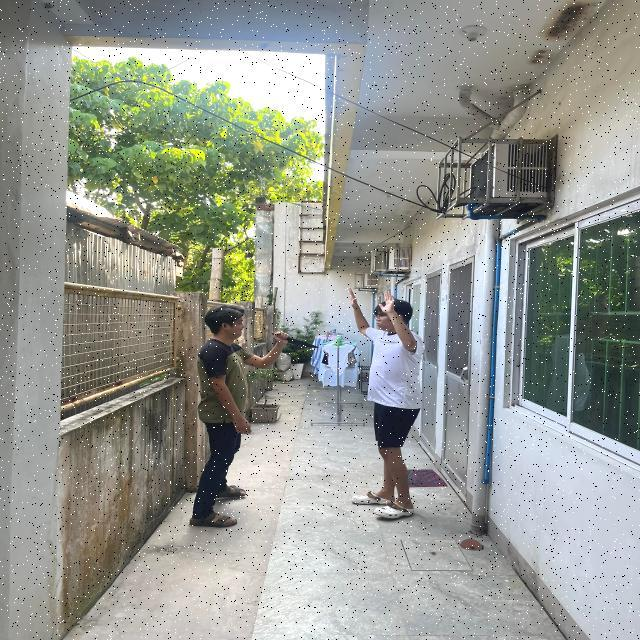knife: (272, 330, 314, 349)
non-violence: (192, 306, 314, 532), (348, 287, 421, 523)
